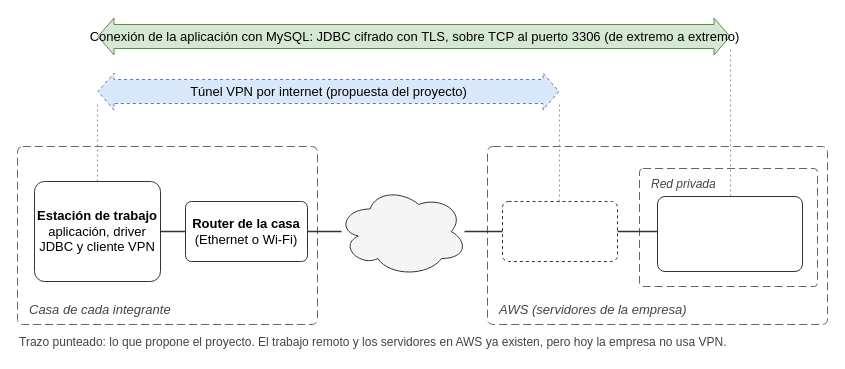
Some shapes in this 845 by 369 pixel diagram are drawn without their labels. Each missing label, with the centre of its shape:
"Gateway VPN (propuesto)" goes at (x=560, y=231).
"Internet" goes at (x=402, y=231).
"Servidor MySQL 8.4 base gestion_soporte" goes at (x=729, y=234).
